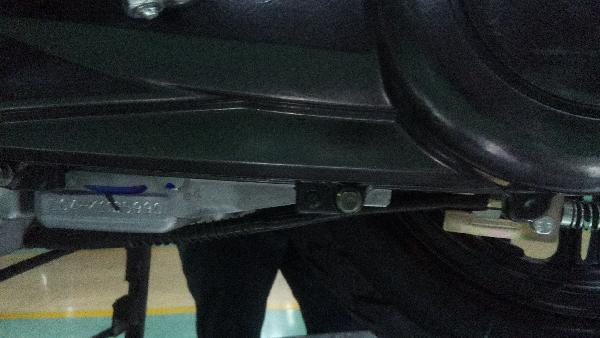box: (49, 198, 162, 217)
